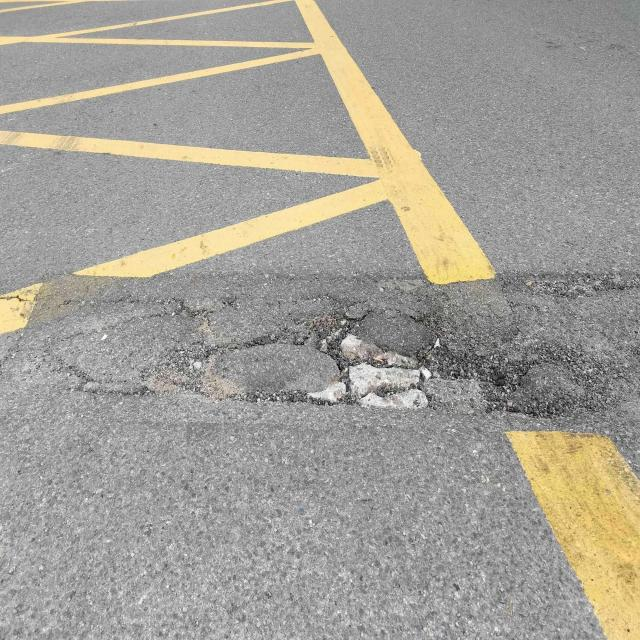Pothole: (46, 268, 622, 434)
